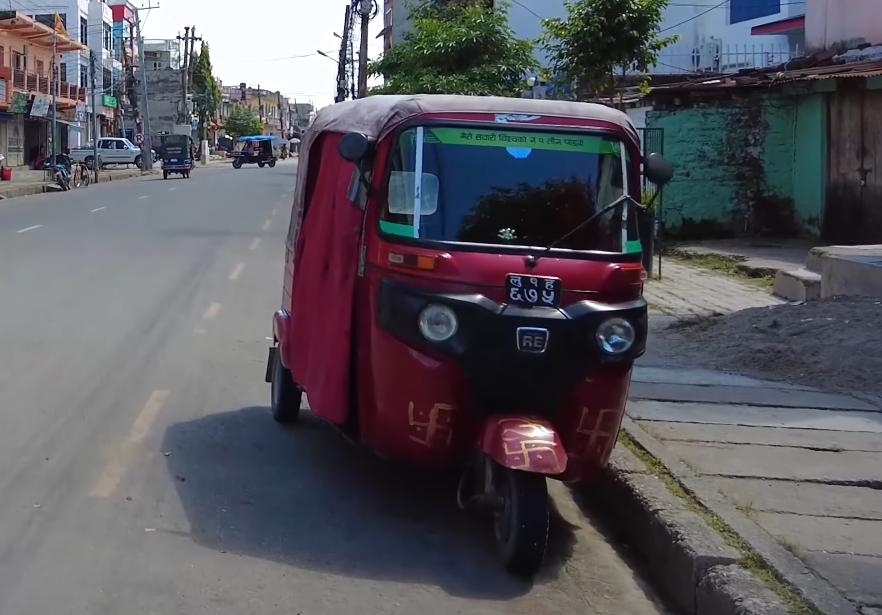auto_rickshaw: (260, 89, 675, 591)
e-rickshaw: (157, 131, 195, 178), (230, 134, 279, 170)
